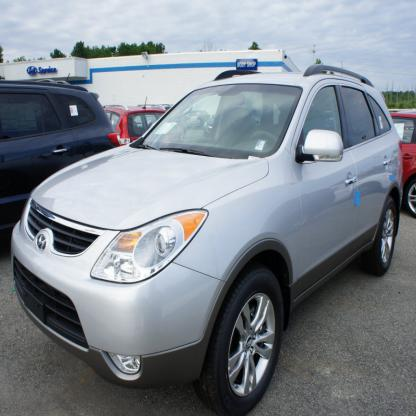Vehicle: (12, 62, 407, 414)
